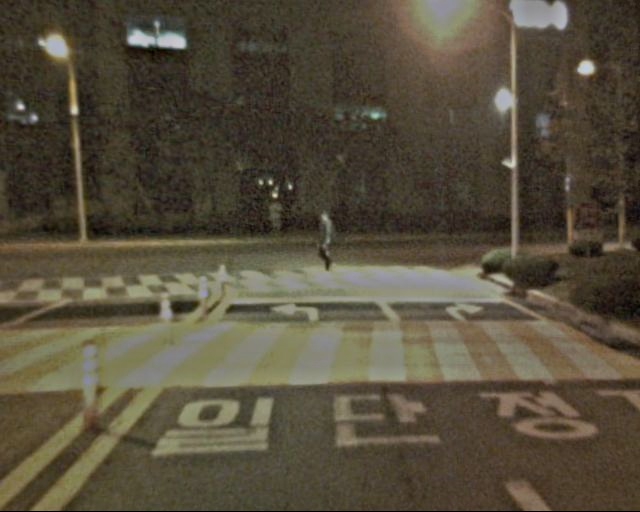person: (313, 213, 340, 280)
